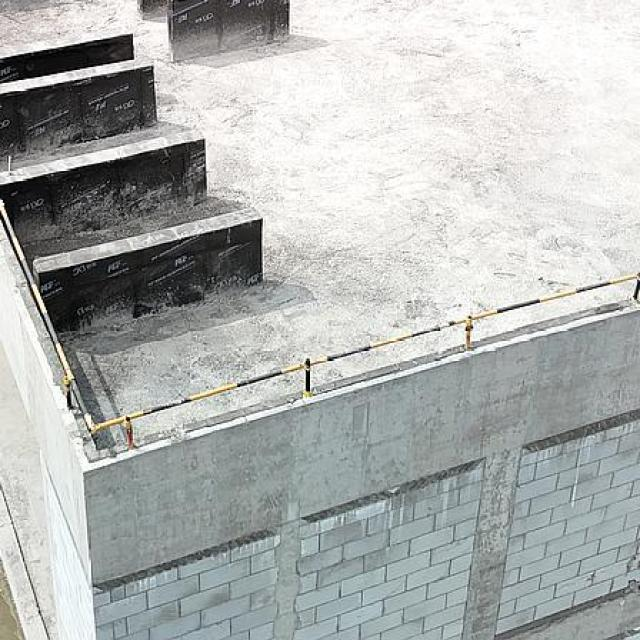Guardrail: (0, 196, 640, 436)
